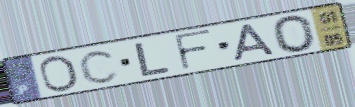A: (232, 22, 278, 63)
C: (77, 48, 122, 86)
F: (172, 28, 215, 73)
L: (133, 41, 174, 79)
O: (270, 13, 319, 55), (38, 54, 82, 95)
